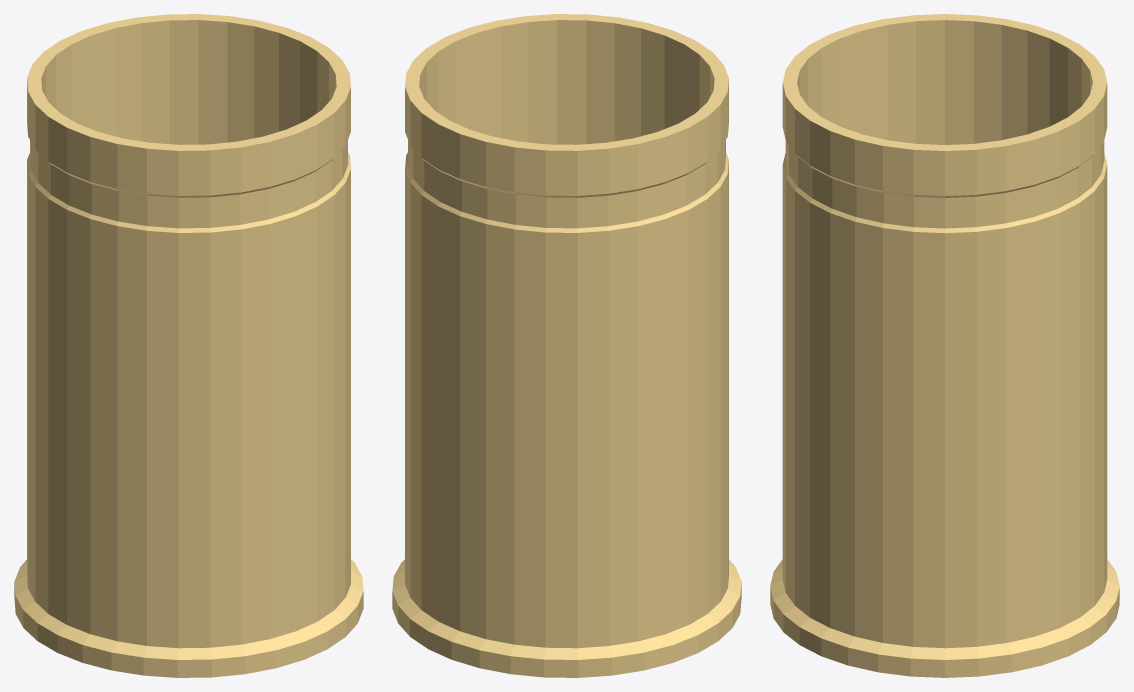
Rendered from Bullet_Casing.fbx.
3 views of the same model, side by side, from view 1: azimuth 30°, elevation 25°; view 2: azimuth 150°, elevation 25°; view 3: azimuth 270°, elevation 25° (orthographic).
Parts seen in each view (by area): view 1: Cylinder; view 2: Cylinder; view 3: Cylinder.
Boxes of the visible parts, x1,y1,x2,y2 form: Cylinder: (14,14,363,677); Cylinder: (392,14,741,677); Cylinder: (770,14,1119,677).
Size of the model in its own units: 215 by 355 by 215.
2 materials, 2 textured.
